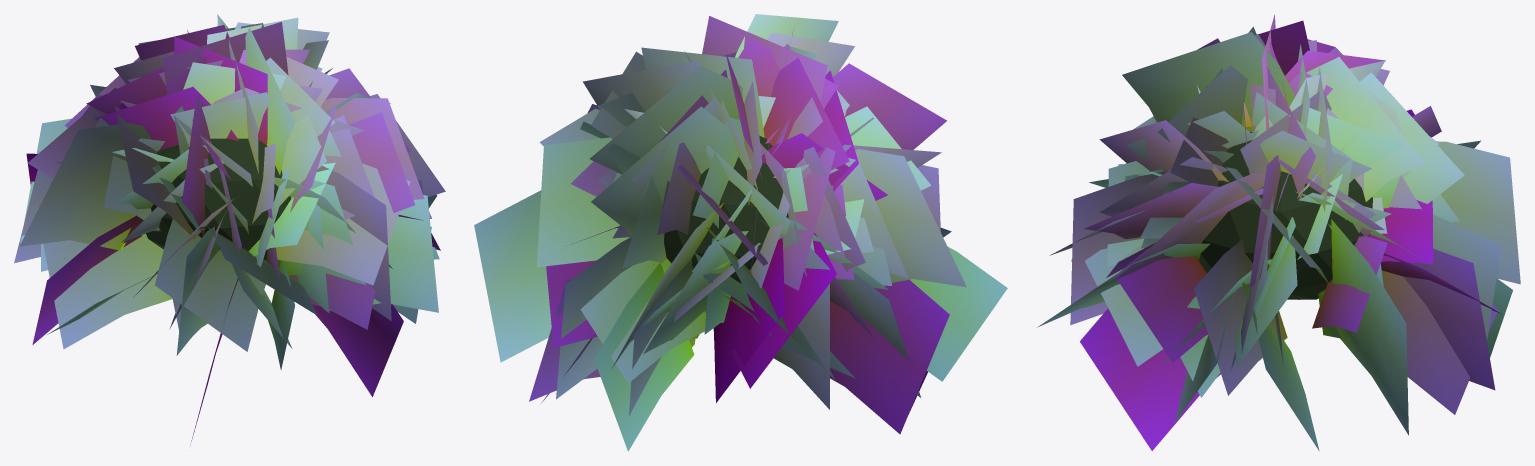
File: shrub_ixora.glb
3 views of the same model, side by side, from view 1: azimuth 30°, elevation 25°; view 2: azimuth 150°, elevation 25°; view 3: azimuth 270°, elevation 25° (orthographic). The views are drawn at different scales.
Parts seen in each view (by area): view 1: shrub_ixora_leaves, shrub_ixora_core; view 2: shrub_ixora_leaves, shrub_ixora_core; view 3: shrub_ixora_leaves, shrub_ixora_core.
Boxes of the visible parts, bbox=[...] form: shrub_ixora_leaves: bbox=[14, 14, 445, 445]; shrub_ixora_core: bbox=[142, 138, 291, 260]; shrub_ixora_leaves: bbox=[474, 14, 1007, 451]; shrub_ixora_core: bbox=[664, 135, 788, 283]; shrub_ixora_leaves: bbox=[1037, 14, 1520, 451]; shrub_ixora_core: bbox=[1199, 132, 1372, 299].
Size of the model in its own units: 1.82 by 1.6 by 1.76.
